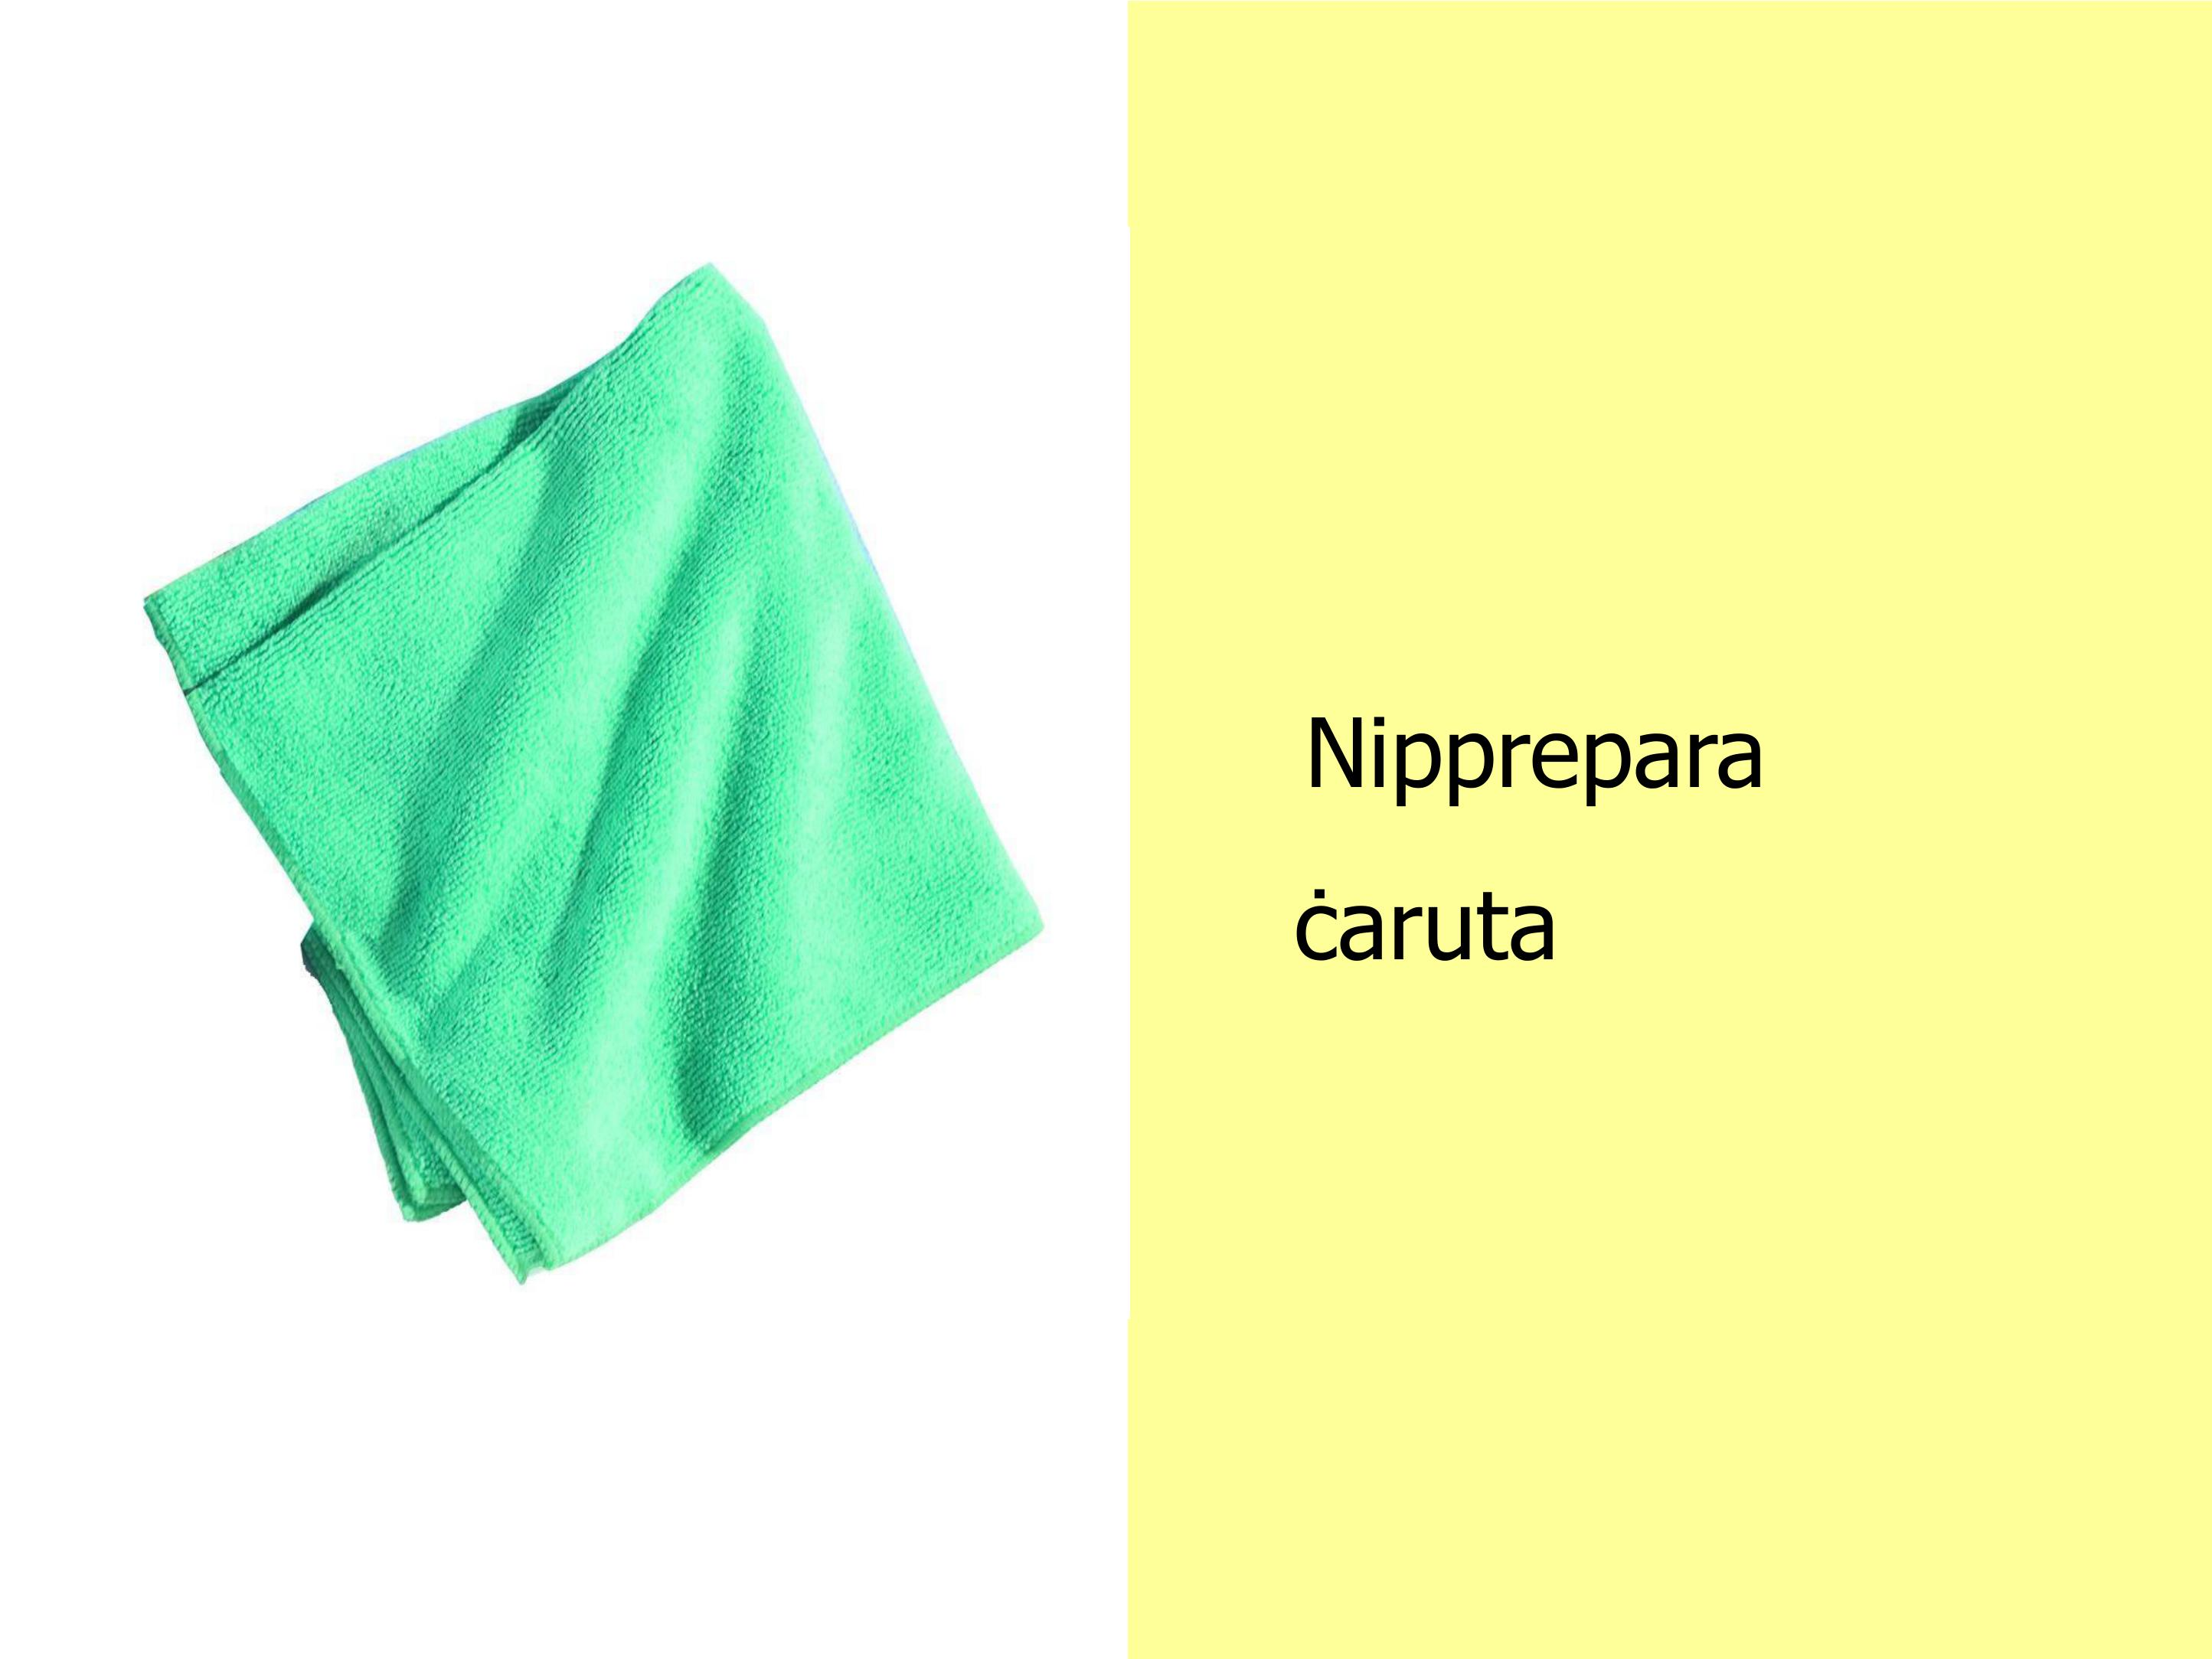text: (1271, 688, 1792, 999)
